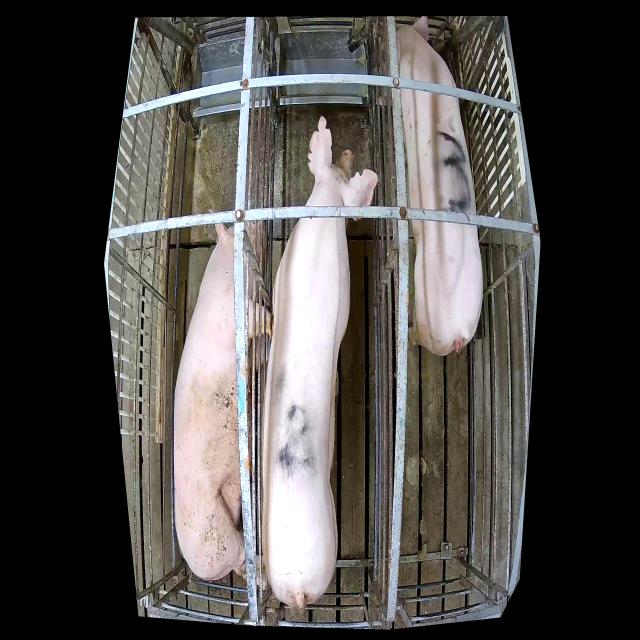pig: (262, 115, 377, 613), (174, 221, 274, 592), (397, 18, 483, 356)
